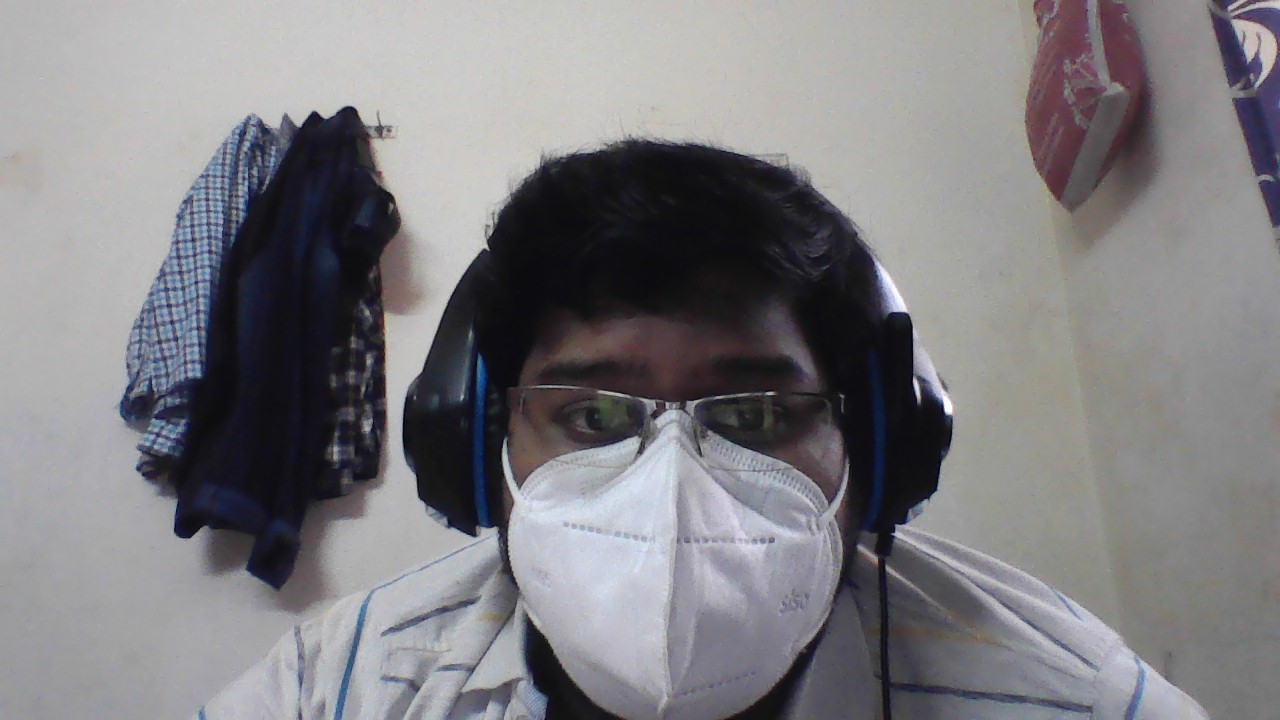Mask: (504, 438, 868, 669)
